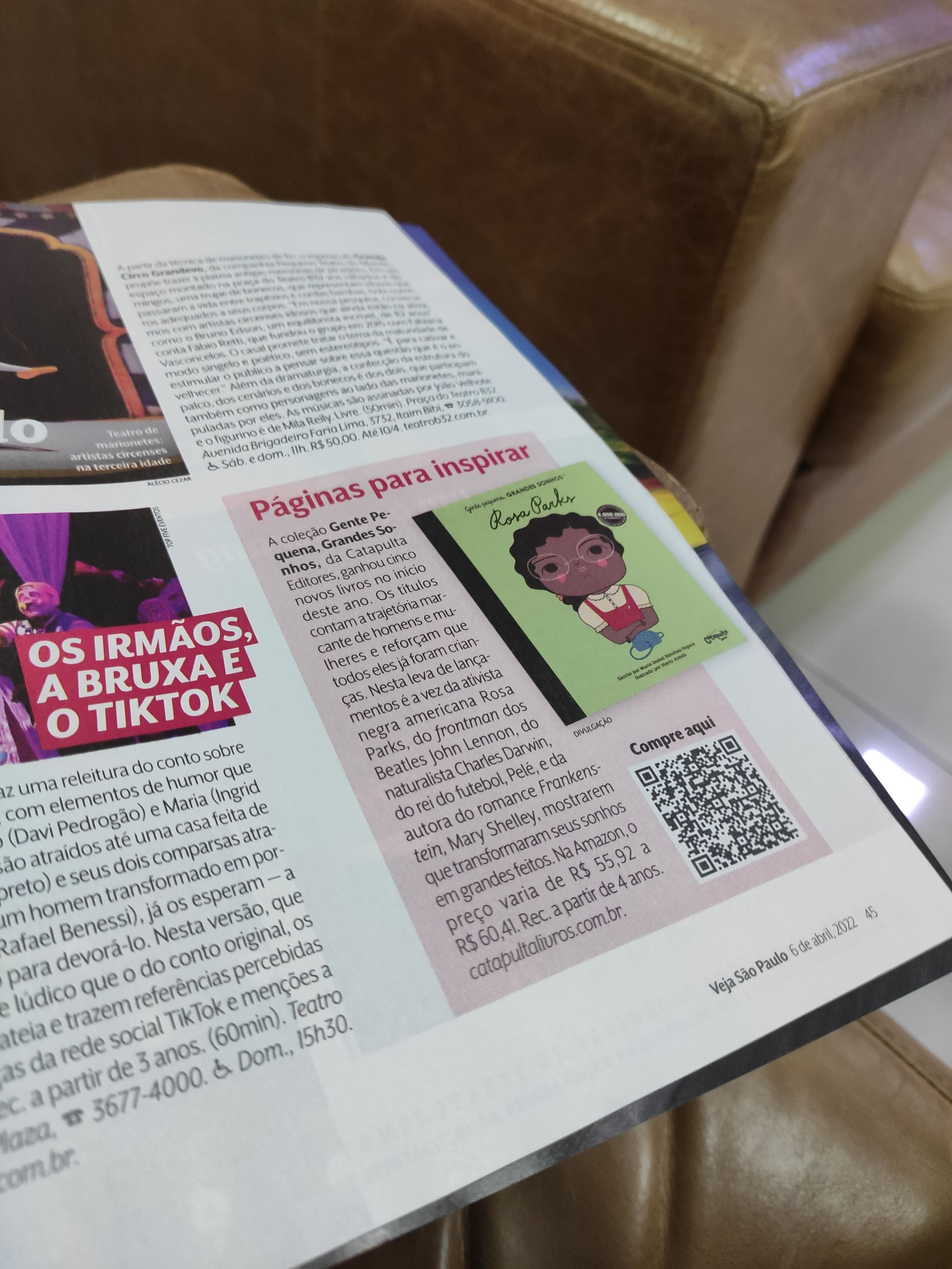QR-CODE: (634, 733, 799, 878)
